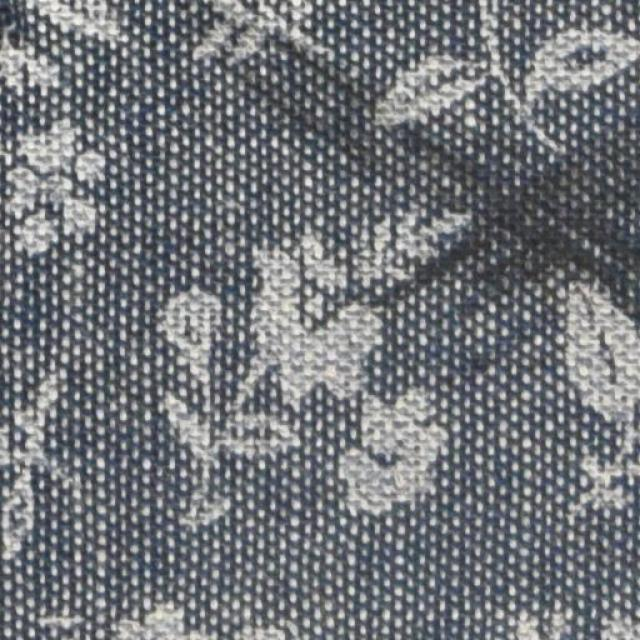Stain: (274, 43, 639, 325)
